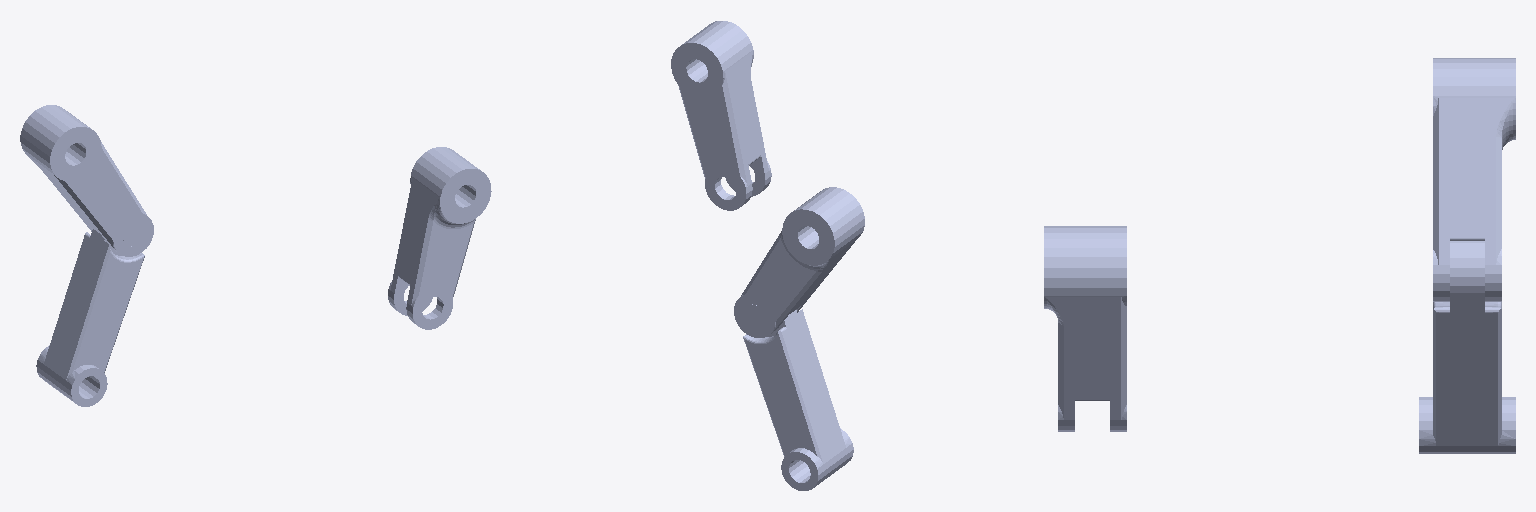
robot.urdf — Assem1.SLDASM:
<?xml version="1.0" encoding="utf-8"?>
<!-- This URDF was automatically created by SolidWorks to URDF Exporter! Originally created by [author] ([email redacted]) 
     Commit Version: 1.6.0-4-g7f85cfe  Build Version: 1.6.7995.38578
     For more information, please see http://wiki.ros.org/sw_urdf_exporter -->
<robot
  name="Assem1.SLDASM">
  <link
    name="base_link">
    <inertial>
      <origin
        xyz="0.504545318881019 0.0482876332833944 -0.2"
        rpy="0 0 0" />
      <mass
        value="38.4857486524171" />
      <inertia
        ixx="0.485830705764068"
        ixy="0.00363638069026405"
        ixz="1.54067646125319E-16"
        iyy="3.89642509357713"
        iyz="1.3597663980327E-17"
        izz="3.51367848534271" />
    </inertial>
    <visual>
      <origin
        xyz="0 0 0"
        rpy="0 0 0" />
      <geometry>
        <mesh
          filename="package://Assem1.SLDASM/meshes/base_link.STL" />
      </geometry>
      <material
        name="">
        <color
          rgba="0.792156862745098 0.819607843137255 0.933333333333333 1" />
      </material>
    </visual>
    <collision>
      <origin
        xyz="0 0 0"
        rpy="0 0 0" />
      <geometry>
        <mesh
          filename="package://Assem1.SLDASM/meshes/base_link.STL" />
      </geometry>
    </collision>
  </link>
  <link
    name="flu_link">
    <inertial>
      <origin
        xyz="0.0900093081078345 2.8436243387775E-08 0.0538957967382936"
        rpy="0 0 0" />
      <mass
        value="3.08030257121594" />
      <inertia
        ixx="0.00640523404832462"
        ixy="3.23758606924664E-09"
        ixz="0.00104219417291525"
        iyy="0.026234794652848"
        iyz="-1.06222201157039E-08"
        izz="0.0261860648976372" />
    </inertial>
    <visual>
      <origin
        xyz="0 0 0"
        rpy="0 0 0" />
      <geometry>
        <mesh
          filename="package://Assem1.SLDASM/meshes/flu_link.STL" />
      </geometry>
      <material
        name="">
        <color
          rgba="0.792156862745098 0.819607843137255 0.933333333333333 1" />
      </material>
    </visual>
    <collision>
      <origin
        xyz="0 0 0"
        rpy="0 0 0" />
      <geometry>
        <mesh
          filename="package://Assem1.SLDASM/meshes/flu_link.STL" />
      </geometry>
    </collision>
  </link>
  <joint
    name="flu"
    type="revolute">
    <origin
      xyz="0.21 -0.0225 0.055"
      rpy="1.5708 1.1212 0" />
    <parent
      link="base_link" />
    <child
      link="flu_link" />
    <axis
      xyz="0 0 1" />
    <limit
      lower="0"
      upper="0"
      effort="0"
      velocity="0" />
  </joint>
  <link
    name="fll_link">
    <inertial>
      <origin
        xyz="0.16795485109117 1.1376176762834E-05 0.0499908753255481"
        rpy="0 0 0" />
      <mass
        value="3.19560260529421" />
      <inertia
        ixx="0.00497469754329269"
        ixy="4.81122477131047E-06"
        ixz="-3.85736306831481E-06"
        iyy="0.0406802699593358"
        iyz="1.30236499604519E-06"
        izz="0.039923443033037" />
    </inertial>
    <visual>
      <origin
        xyz="0 0 0"
        rpy="0 0 0" />
      <geometry>
        <mesh
          filename="package://Assem1.SLDASM/meshes/fll_link.STL" />
      </geometry>
      <material
        name="">
        <color
          rgba="0.792156862745098 0.819607843137255 0.933333333333333 1" />
      </material>
    </visual>
    <collision>
      <origin
        xyz="0 0 0"
        rpy="0 0 0" />
      <geometry>
        <mesh
          filename="package://Assem1.SLDASM/meshes/fll_link.STL" />
      </geometry>
    </collision>
  </link>
  <joint
    name="fll"
    type="revolute">
    <origin
      xyz="0.25 0 0"
      rpy="0 0 -1.1385" />
    <parent
      link="flu_link" />
    <child
      link="fll_link" />
    <axis
      xyz="0 0 1" />
    <limit
      lower="0"
      upper="0"
      effort="0"
      velocity="0" />
  </joint>
  <link
    name="fru_link">
    <inertial>
      <origin
        xyz="0.0900093102167698 3.4641804064206E-08 0.053895779669951"
        rpy="0 0 0" />
      <mass
        value="3.08030206641427" />
      <inertia
        ixx="0.00640522970601072"
        ixy="5.18665106393271E-09"
        ixz="0.00104219303257973"
        iyy="0.0262347879832158"
        iyz="-1.30138679828133E-08"
        izz="0.0261860612180928" />
    </inertial>
    <visual>
      <origin
        xyz="0 0 0"
        rpy="0 0 0" />
      <geometry>
        <mesh
          filename="package://Assem1.SLDASM/meshes/fru_link.STL" />
      </geometry>
      <material
        name="">
        <color
          rgba="0.792156862745098 0.819607843137255 0.933333333333333 1" />
      </material>
    </visual>
    <collision>
      <origin
        xyz="0 0 0"
        rpy="0 0 0" />
      <geometry>
        <mesh
          filename="package://Assem1.SLDASM/meshes/fru_link.STL" />
      </geometry>
    </collision>
  </link>
  <joint
    name="fru"
    type="revolute">
    <origin
      xyz="0.21 0.4225 0.055"
      rpy="-1.5708 1.0032 0" />
    <parent
      link="base_link" />
    <child
      link="fru_link" />
    <axis
      xyz="0 0 1" />
    <limit
      lower="0"
      upper="0"
      effort="0"
      velocity="0" />
  </joint>
  <link
    name="frl_link">
    <inertial>
      <origin
        xyz="0.167954851146316 1.13763076222684E-05 0.0499908752785411"
        rpy="0 0 0" />
      <mass
        value="3.19560260133236" />
      <inertia
        ixx="0.00497469753825961"
        ixy="4.81124714543917E-06"
        ixz="-3.85738975864839E-06"
        iyy="0.0406802699104282"
        iyz="1.30235932492411E-06"
        izz="0.0399234429887749" />
    </inertial>
    <visual>
      <origin
        xyz="0 0 0"
        rpy="0 0 0" />
      <geometry>
        <mesh
          filename="package://Assem1.SLDASM/meshes/frl_link.STL" />
      </geometry>
      <material
        name="">
        <color
          rgba="0.792156862745098 0.819607843137255 0.933333333333333 1" />
      </material>
    </visual>
    <collision>
      <origin
        xyz="0 0 0"
        rpy="0 0 0" />
      <geometry>
        <mesh
          filename="package://Assem1.SLDASM/meshes/frl_link.STL" />
      </geometry>
    </collision>
  </link>
  <joint
    name="frl"
    type="revolute">
    <origin
      xyz="0.25 0 0"
      rpy="0 0 0.92792" />
    <parent
      link="fru_link" />
    <child
      link="frl_link" />
    <axis
      xyz="0 0 1" />
    <limit
      lower="0"
      upper="0"
      effort="0"
      velocity="0" />
  </joint>
  <link
    name="blu_link">
    <inertial>
      <origin
        xyz="0.0900093181651295 3.89552863300224E-08 0.0538957669205462"
        rpy="0 0 0" />
      <mass
        value="3.08030178447125" />
      <inertia
        ixx="0.00640522656926389"
        ixy="6.27291777267718E-09"
        ixz="0.00104219187862973"
        iyy="0.0262347837614182"
        iyz="-1.48479982784258E-08"
        izz="0.0261860596399259" />
    </inertial>
    <visual>
      <origin
        xyz="0 0 0"
        rpy="0 0 0" />
      <geometry>
        <mesh
          filename="package://Assem1.SLDASM/meshes/blu_link.STL" />
      </geometry>
      <material
        name="">
        <color
          rgba="0.792156862745098 0.819607843137255 0.933333333333333 1" />
      </material>
    </visual>
    <collision>
      <origin
        xyz="0 0 0"
        rpy="0 0 0" />
      <geometry>
        <mesh
          filename="package://Assem1.SLDASM/meshes/blu_link.STL" />
      </geometry>
    </collision>
  </link>
  <joint
    name="blu"
    type="revolute">
    <origin
      xyz="0.79 -0.0225 0.055"
      rpy="-1.5708 1.3087 -3.1416" />
    <parent
      link="base_link" />
    <child
      link="blu_link" />
    <axis
      xyz="0 0 1" />
    <limit
      lower="0"
      upper="0"
      effort="0"
      velocity="0" />
  </joint>
  <link
    name="bll_link">
    <inertial>
      <origin
        xyz="0.167954851091998 1.13761839362625E-05 0.0499908753239368"
        rpy="0 0 0" />
      <mass
        value="3.19560260515606" />
      <inertia
        ixx="0.00497469754311635"
        ixy="4.81122601893465E-06"
        ixz="-3.85736427111842E-06"
        iyy="0.0406802699571201"
        iyz="1.30236463090308E-06"
        izz="0.0399234430312326" />
    </inertial>
    <visual>
      <origin
        xyz="0 0 0"
        rpy="0 0 0" />
      <geometry>
        <mesh
          filename="package://Assem1.SLDASM/meshes/bll_link.STL" />
      </geometry>
      <material
        name="">
        <color
          rgba="0.792156862745098 0.819607843137255 0.933333333333333 1" />
      </material>
    </visual>
    <collision>
      <origin
        xyz="0 0 0"
        rpy="0 0 0" />
      <geometry>
        <mesh
          filename="package://Assem1.SLDASM/meshes/bll_link.STL" />
      </geometry>
    </collision>
  </link>
  <joint
    name="bll"
    type="revolute">
    <origin
      xyz="0.25 0 0"
      rpy="0 0 1.1163" />
    <parent
      link="blu_link" />
    <child
      link="bll_link" />
    <axis
      xyz="0 0 1" />
    <limit
      lower="0"
      upper="0"
      effort="0"
      velocity="0" />
  </joint>
  <link
    name="bru_link">
    <inertial>
      <origin
        xyz="0.0900093102637642 3.61301034645933E-08 0.0538957762043126"
        rpy="0 0 0" />
      <mass
        value="3.080301966493" />
      <inertia
        ixx="0.00640522884709718"
        ixy="5.42961278054196E-09"
        ixz="0.00104219297419877"
        iyy="0.0262347870692762"
        iyz="-1.35118704660858E-08"
        izz="0.0261860609591814" />
    </inertial>
    <visual>
      <origin
        xyz="0 0 0"
        rpy="0 0 0" />
      <geometry>
        <mesh
          filename="package://Assem1.SLDASM/meshes/bru_link.STL" />
      </geometry>
      <material
        name="">
        <color
          rgba="0.792156862745098 0.819607843137255 0.933333333333333 1" />
      </material>
    </visual>
    <collision>
      <origin
        xyz="0 0 0"
        rpy="0 0 0" />
      <geometry>
        <mesh
          filename="package://Assem1.SLDASM/meshes/bru_link.STL" />
      </geometry>
    </collision>
  </link>
  <joint
    name="bru"
    type="revolute">
    <origin
      xyz="0.79 0.4225 0.055"
      rpy="-1.5708 1.5014 0" />
    <parent
      link="base_link" />
    <child
      link="bru_link" />
    <axis
      xyz="0 0 1" />
    <limit
      lower="0"
      upper="0"
      effort="0"
      velocity="0" />
  </joint>
  <link
    name="brl_link">
    <inertial>
      <origin
        xyz="0.167954851061053 1.13762164221654E-05 0.0499908752968465"
        rpy="0 0 0" />
      <mass
        value="3.19560260548347" />
      <inertia
        ixx="0.00497469754418578"
        ixy="4.81123079090436E-06"
        ixz="-3.85737699128566E-06"
        iyy="0.0406802699619135"
        iyz="1.30236197676355E-06"
        izz="0.0399234430345866" />
    </inertial>
    <visual>
      <origin
        xyz="0 0 0"
        rpy="0 0 0" />
      <geometry>
        <mesh
          filename="package://Assem1.SLDASM/meshes/brl_link.STL" />
      </geometry>
      <material
        name="">
        <color
          rgba="0.792156862745098 0.819607843137255 0.933333333333333 1" />
      </material>
    </visual>
    <collision>
      <origin
        xyz="0 0 0"
        rpy="0 0 0" />
      <geometry>
        <mesh
          filename="package://Assem1.SLDASM/meshes/brl_link.STL" />
      </geometry>
    </collision>
  </link>
  <joint
    name="brl"
    type="revolute">
    <origin
      xyz="0.25 0 0"
      rpy="0 0 -0.7862" />
    <parent
      link="bru_link" />
    <child
      link="brl_link" />
    <axis
      xyz="0 0 1" />
    <limit
      lower="0"
      upper="0"
      effort="0"
      velocity="0" />
  </joint>
</robot>

--- Facts derived from the render (not from the file) ---
Views: 3 orthographic renders of the robot side by side, from view 1: azimuth 30°, elevation 25°; view 2: azimuth 150°, elevation 25°; view 3: azimuth 270°, elevation 25°.
Model Assem1.SLDASM with 9 links and 8 joints (8 revolute), rooted at base_link, posed all joints at 0.
Links seen in each view (by area): view 1: blu_link, frl_link, fru_link; view 2: blu_link, frl_link, fru_link; view 3: fru_link, blu_link, frl_link.
Boxes of the visible links, left/top/right/bottom form: blu_link: left=388, top=147, right=491, bottom=329; frl_link: left=36, top=224, right=144, bottom=406; fru_link: left=20, top=105, right=153, bottom=256; blu_link: left=671, top=21, right=771, bottom=210; frl_link: left=743, top=304, right=853, bottom=490; fru_link: left=734, top=187, right=864, bottom=337; fru_link: left=1433, top=58, right=1515, bottom=301; blu_link: left=1044, top=226, right=1126, bottom=431; frl_link: left=1419, top=241, right=1515, bottom=453.
Bounding box of the posed robot: 0.6994 × 0.685 × 0.6173 m (x, y, z).
3 mesh visuals loaded from 9 distinct referenced files (3 binary STL); not drawn: 6 (reference not matched to a file when rendering).